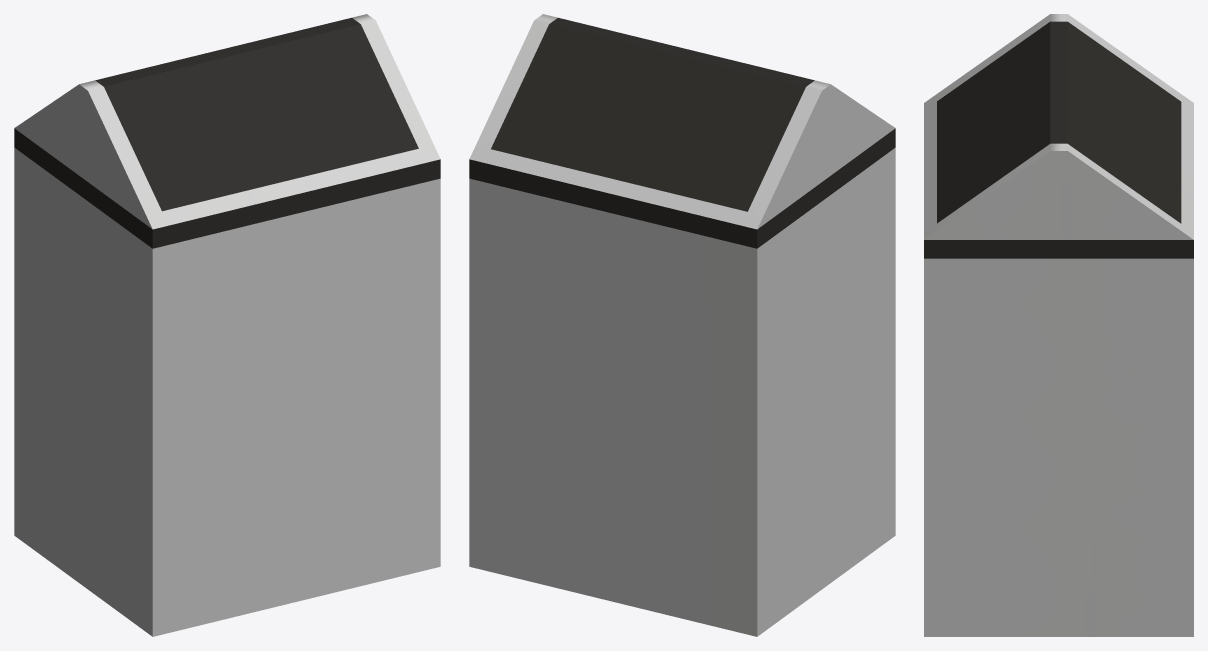
The model's file is GarbageCans_001.fbx.
The picture shows the model from 3 angles, left to right: view 1: azimuth 30°, elevation 25°; view 2: azimuth 150°, elevation 25°; view 3: azimuth 270°, elevation 25°; orthographic projection. The views are drawn at different scales.
Visible parts, largest first — view 1: GarbageCan_001; view 2: GarbageCan_001; view 3: GarbageCan_001.
Boxes of the visible parts, x1,y1,x2,y2 form: GarbageCan_001: (14,14,440,636); GarbageCan_001: (469,14,895,636); GarbageCan_001: (924,14,1193,636).
Bounding box in the file's own units: 1.81 × 3 × 1.51.
